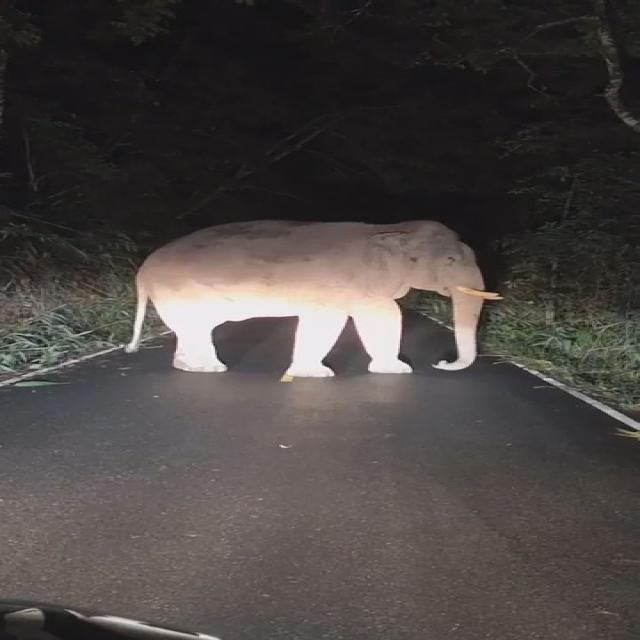Elephant: (88, 173, 564, 405)
